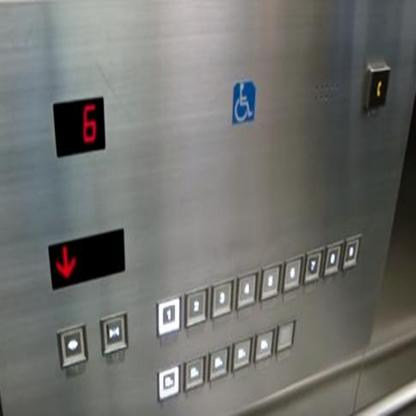1: (156, 292, 182, 336)
2: (184, 284, 209, 328)
3: (210, 276, 235, 319)
4: (235, 268, 260, 310)
5: (258, 260, 283, 303)
6: (281, 252, 306, 294)
7: (303, 245, 325, 285)
8: (322, 239, 345, 277)
9: (342, 234, 362, 270)
CH: (231, 80, 256, 122)
call: (363, 61, 391, 111)
close: (99, 310, 128, 354)
led: (47, 224, 126, 293), (49, 92, 107, 158)
open: (56, 323, 89, 369)
unknown: (156, 362, 180, 400), (183, 354, 206, 392), (208, 344, 230, 382), (253, 326, 275, 363), (231, 336, 252, 372), (275, 319, 296, 352)
